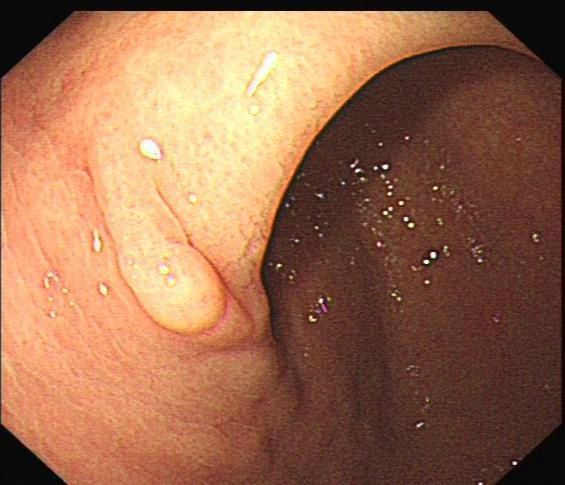Polyp: (77, 98, 257, 378)
